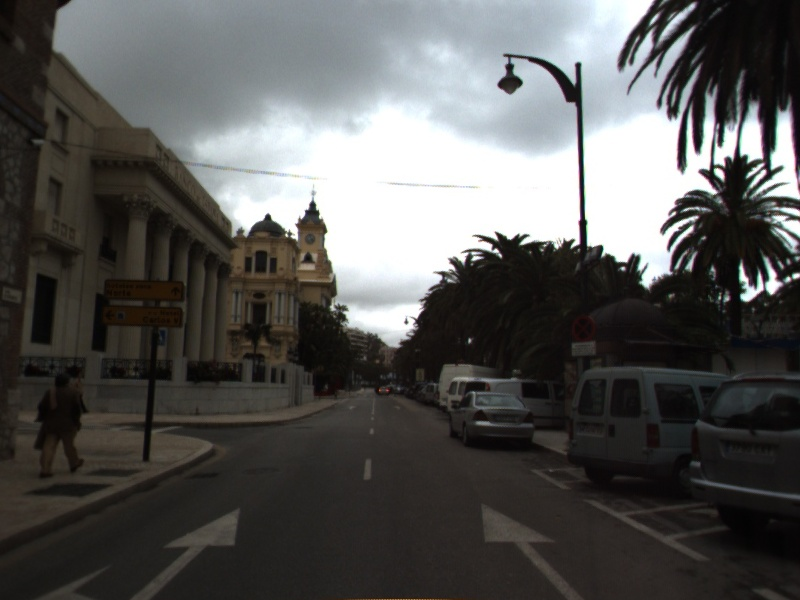STRAIGHT: (479, 498, 587, 600)
STRAIGHT_LEFT: (32, 504, 243, 600)
